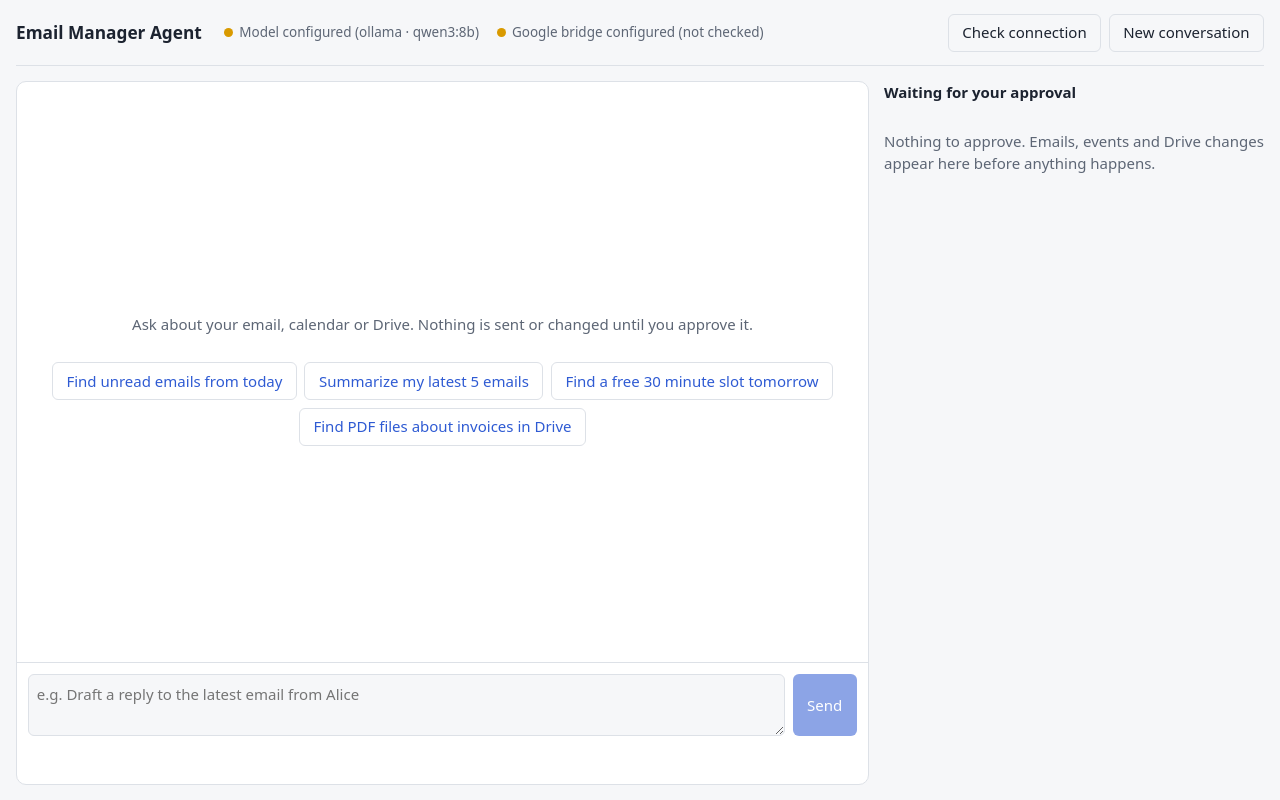
Test case: chat › shows backend errors readably
The image size is (1280, 800).
Type "hello" into the text box named "Message" at point(407, 705), box [28,674,785,736]
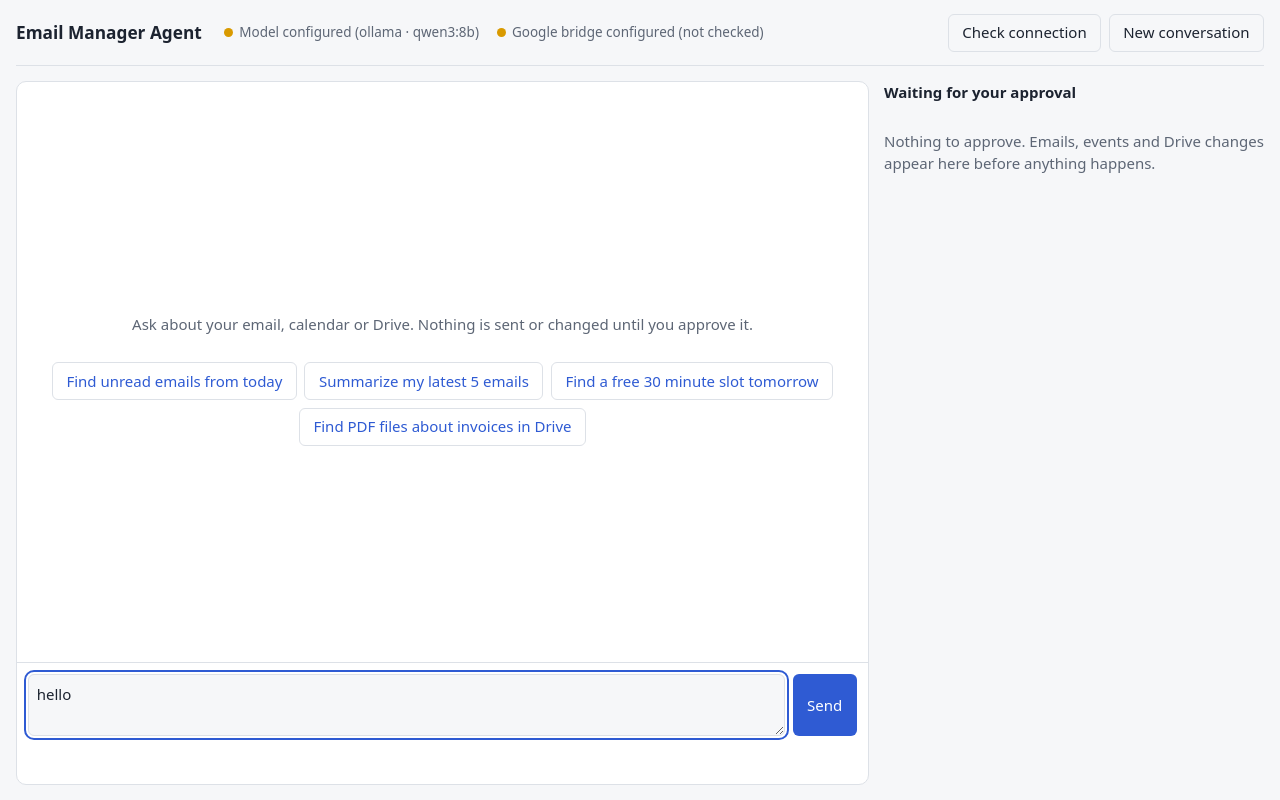
Click the button "Send" at point(825, 705), box [792,674,857,736]
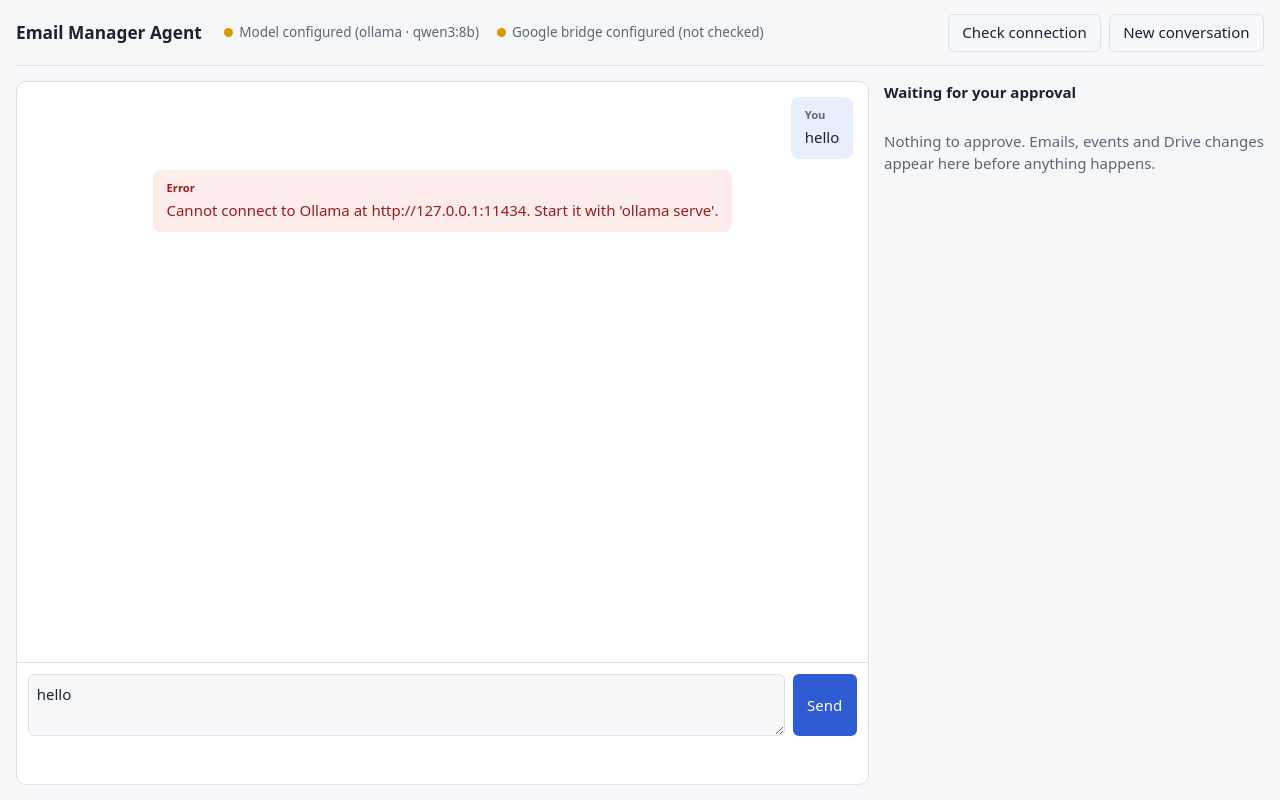
Expected: the text box named "Message" is enabled, [28,674,785,736]
Expected: the text "Cannot connect to Ollama" is shown, [166,200,719,220]
